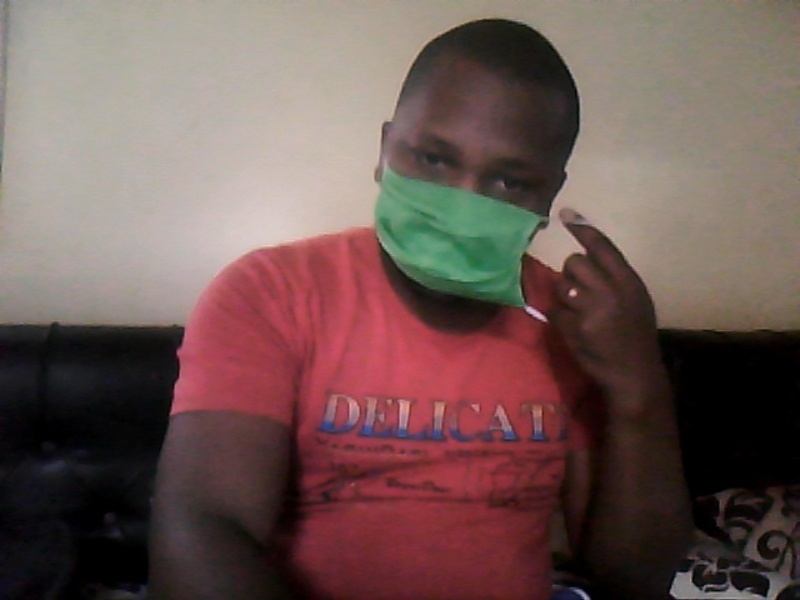ManaoArotava: (376, 18, 572, 338)
